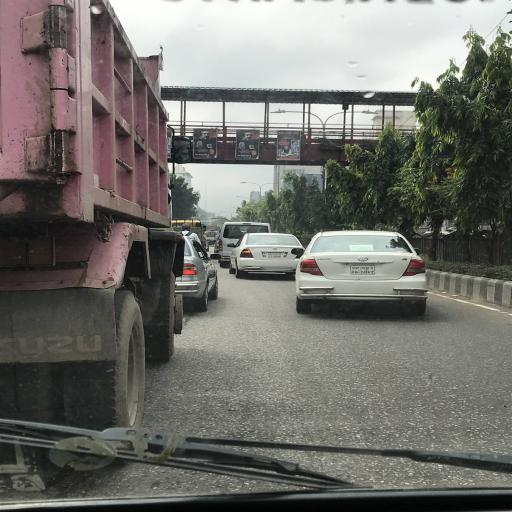car: (294, 232, 435, 321), (229, 235, 306, 281)
van: (216, 216, 275, 266)
